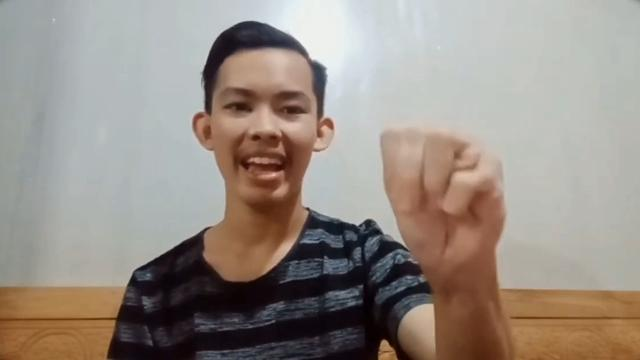M: (376, 125, 512, 271)
